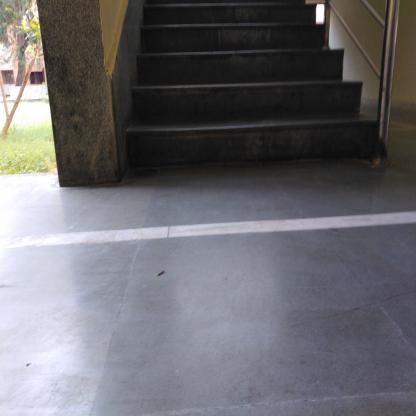stairs: (144, 1, 320, 181)
